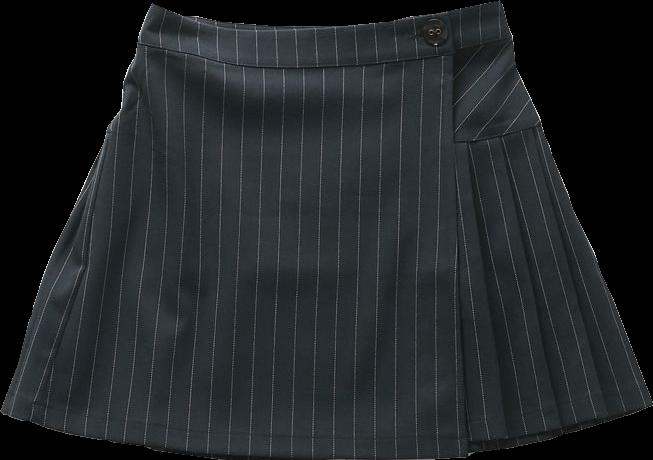Hemline: (0, 401, 652, 459)
Waistline: (136, 29, 512, 72), (152, 0, 500, 35)
